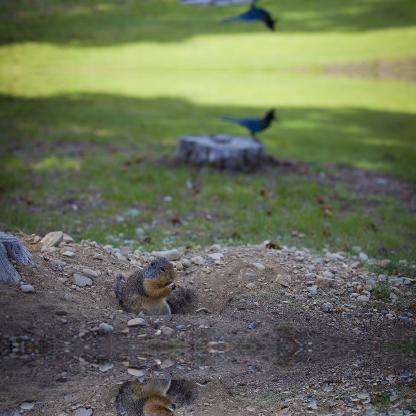Squirrel: (113, 254, 193, 316), (113, 376, 194, 415)
